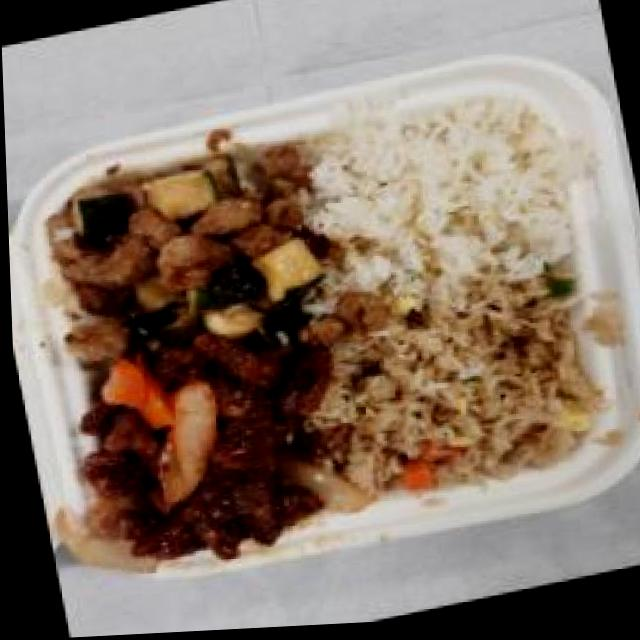Beijing Beef: (42, 311, 370, 594)
Fried Rice: (306, 266, 608, 518)
Kung Pao Chicken: (31, 137, 336, 377)
White Steamed Rice: (301, 73, 597, 313)
